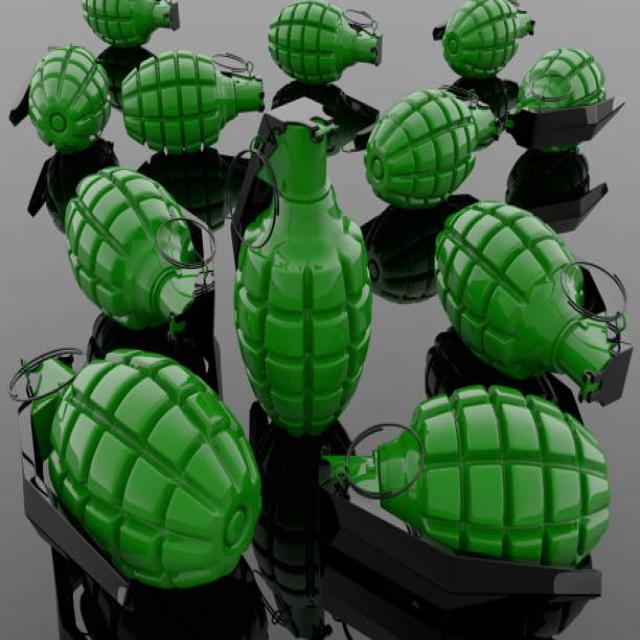grenade: (307, 372, 619, 619), (5, 339, 269, 615)
